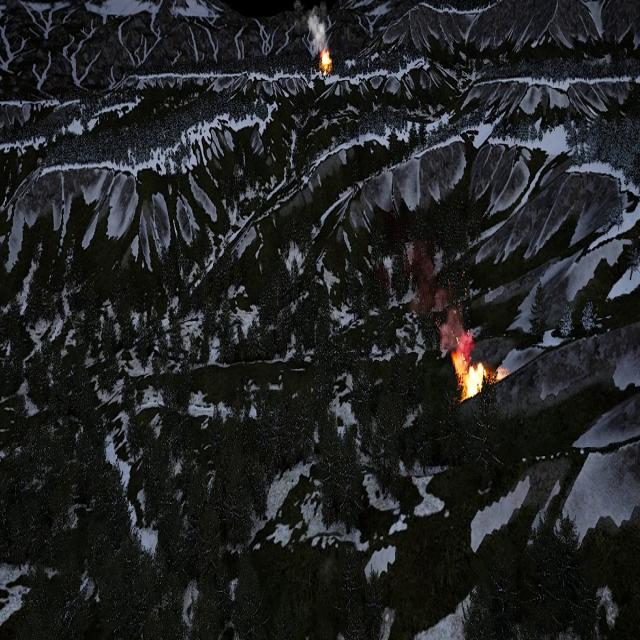fire: (455, 358, 486, 400), (321, 51, 332, 70)
smoke: (414, 263, 476, 368), (306, 3, 330, 54)
